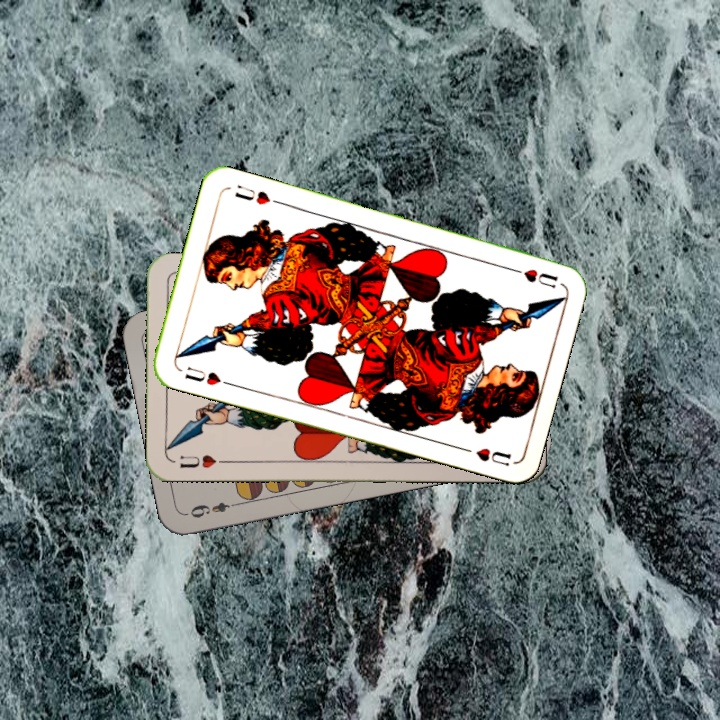E9: (183, 498, 242, 521)
HU: (505, 263, 561, 291), (181, 362, 224, 388), (176, 451, 230, 471)
